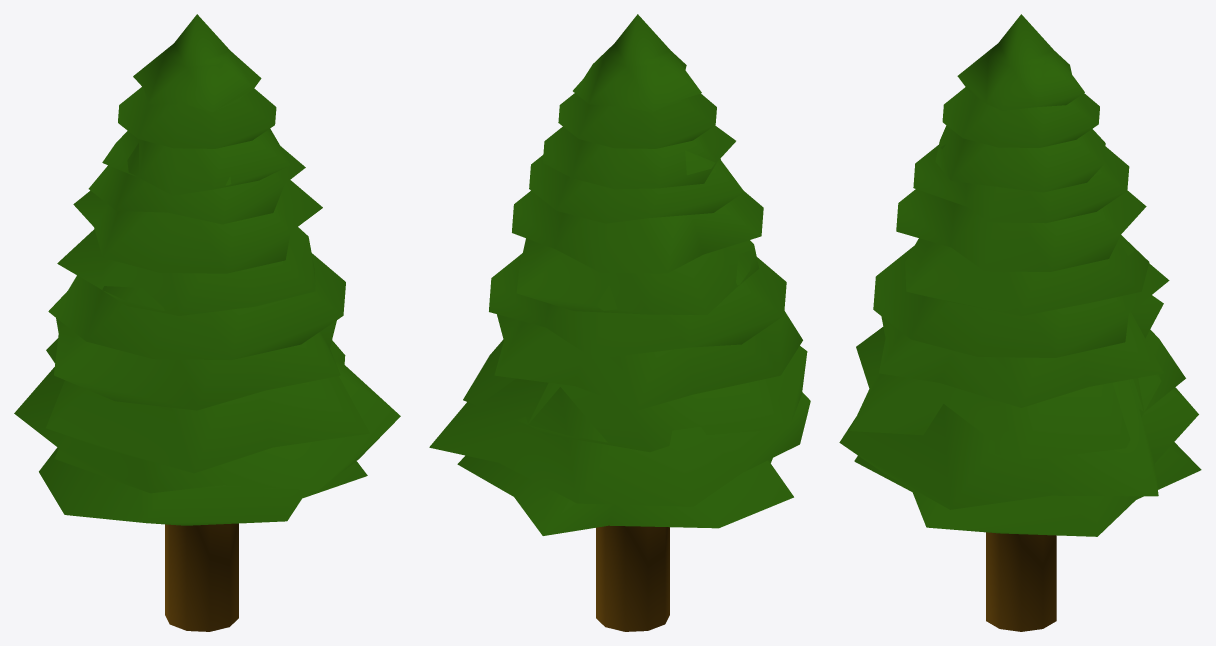
File: Tree.fbx
The picture shows the model from 3 angles, left to right: view 1: azimuth 30°, elevation 25°; view 2: azimuth 150°, elevation 25°; view 3: azimuth 270°, elevation 25°; orthographic projection.
Visible parts, largest first — view 1: pDisc14; view 2: pDisc14; view 3: pDisc14.
Part boxes in pixels (box(x1,y1,x2,y2)): pDisc14: box(14, 14, 400, 631); pDisc14: box(429, 14, 810, 631); pDisc14: box(839, 14, 1201, 631).
Bounding box in the file's own units: 2.05 × 3.69 × 2.02.
